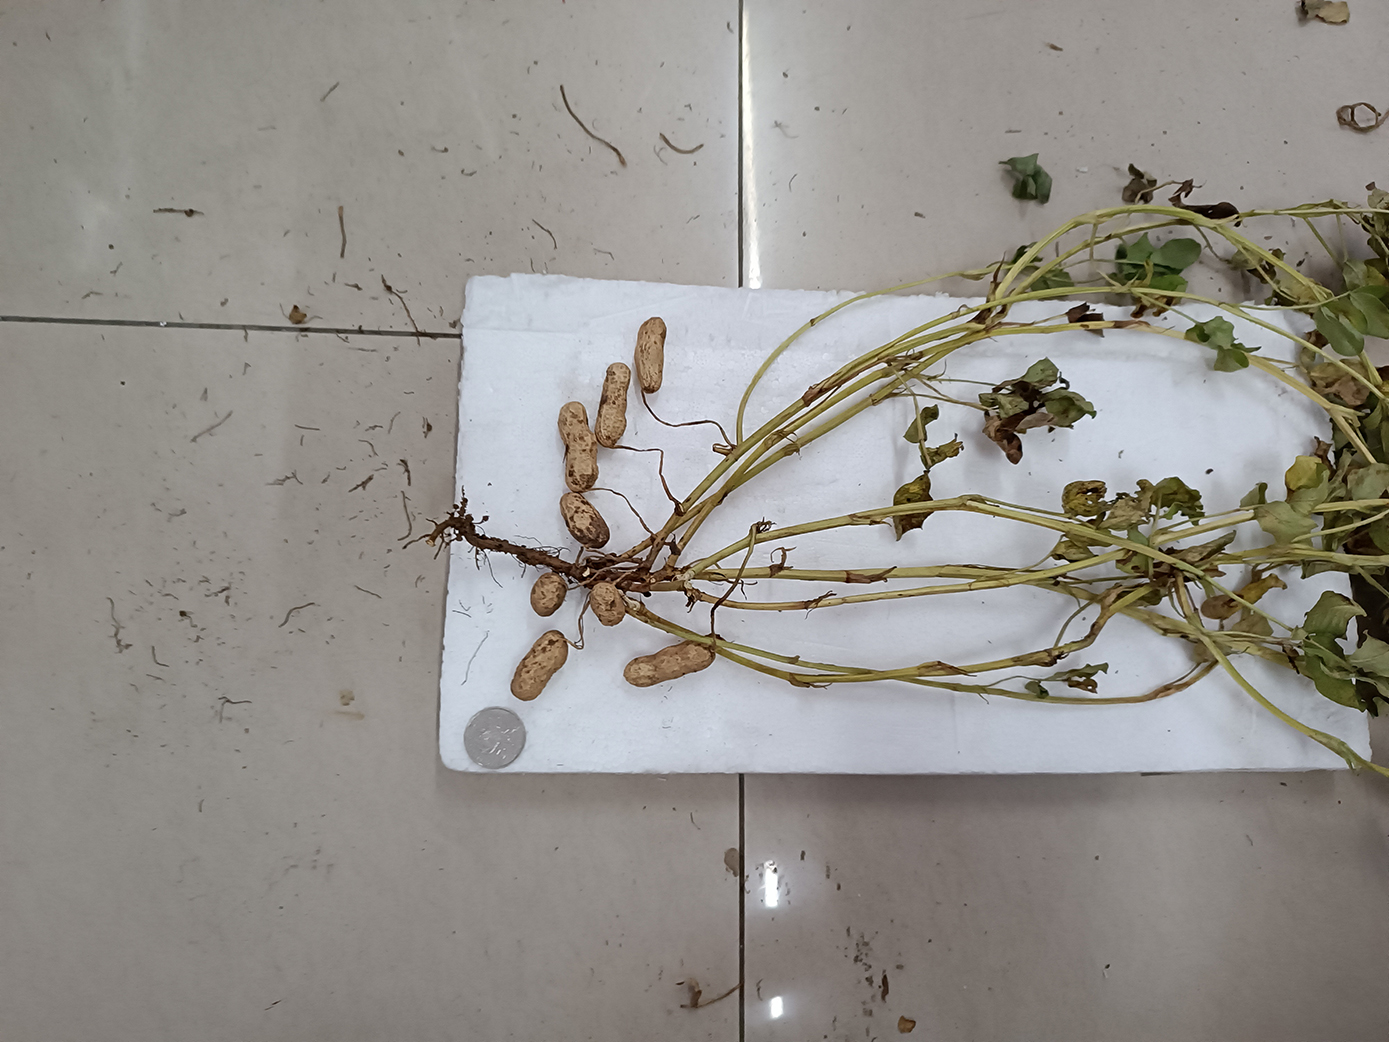h: (510, 627, 570, 702), (622, 642, 716, 690), (558, 402, 599, 493), (595, 362, 630, 447), (558, 491, 610, 547), (633, 316, 667, 393), (529, 572, 568, 616), (588, 580, 625, 626)
